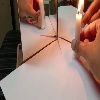fire: (78, 0, 84, 16)
